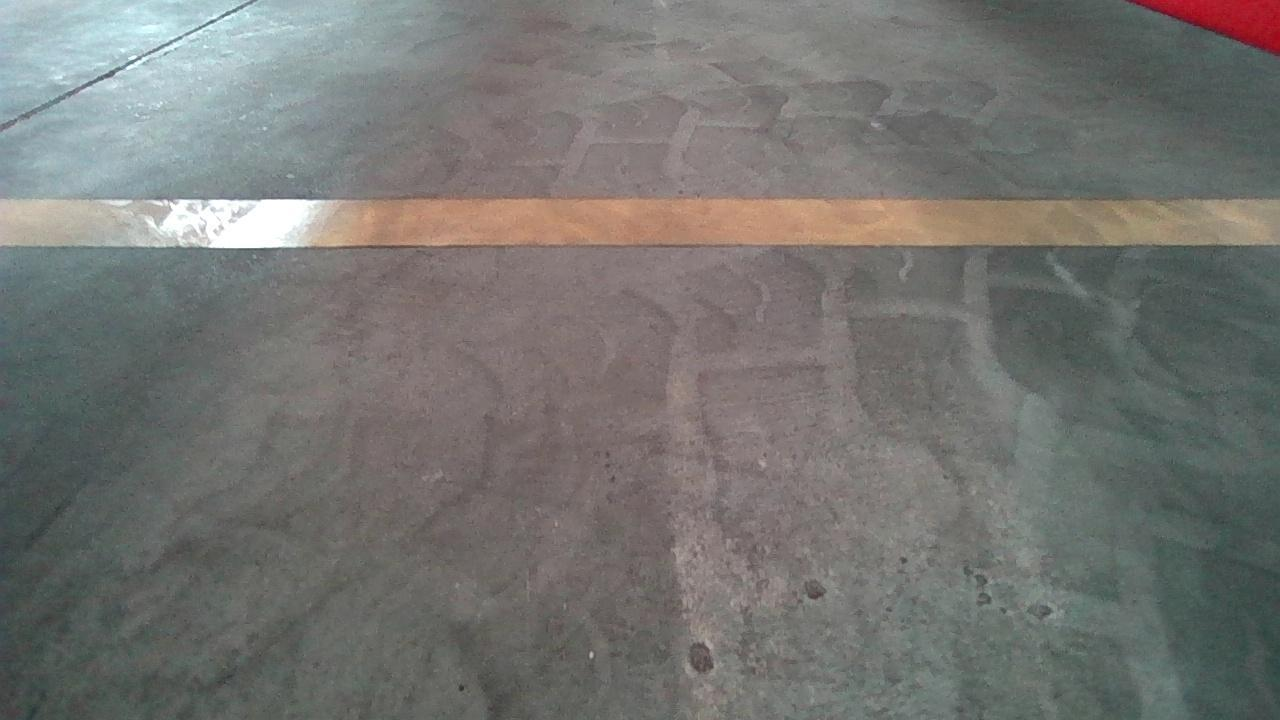yellow_line: (0, 187, 1278, 253)
